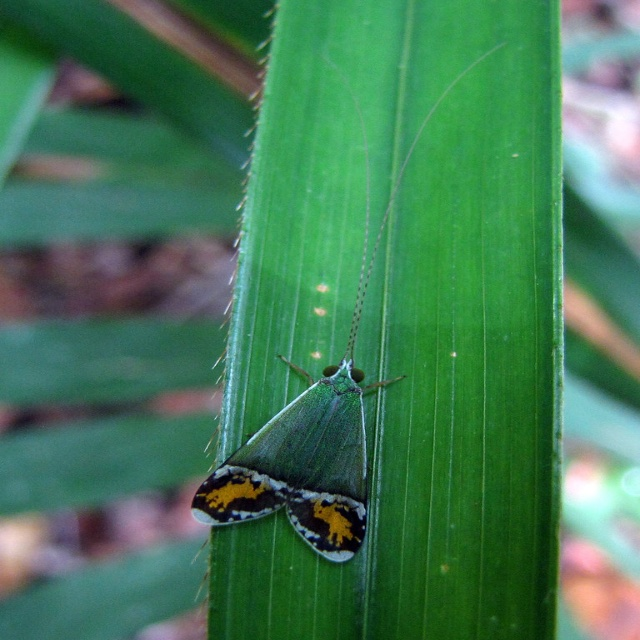Moths and butterflies: (187, 40, 515, 566)
